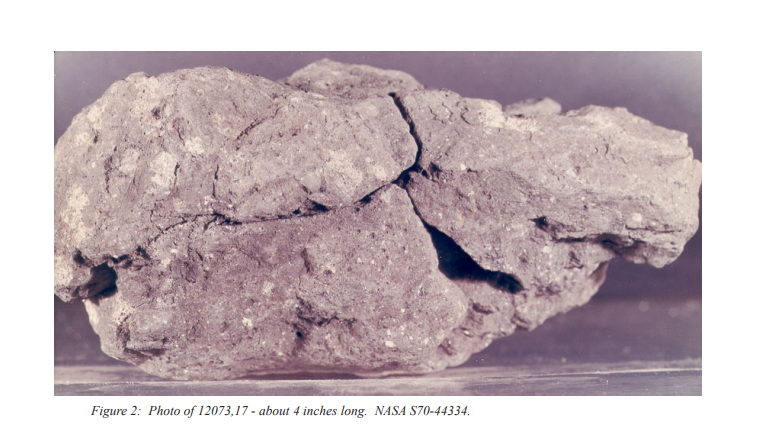Breccia: (55, 51, 699, 393)
